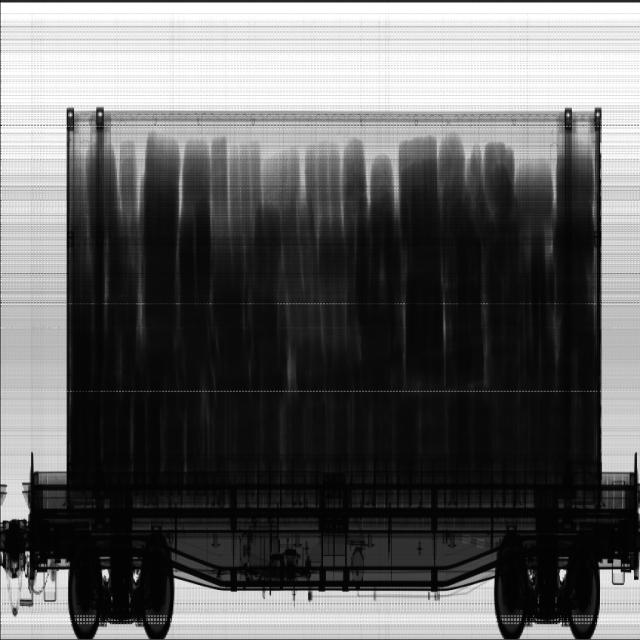clothes: (69, 132, 596, 466)
